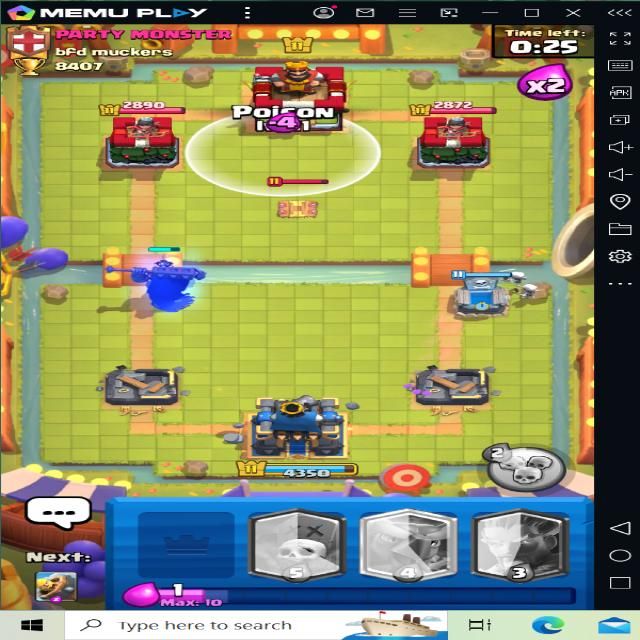tesla-closed: (262, 177, 340, 227)
